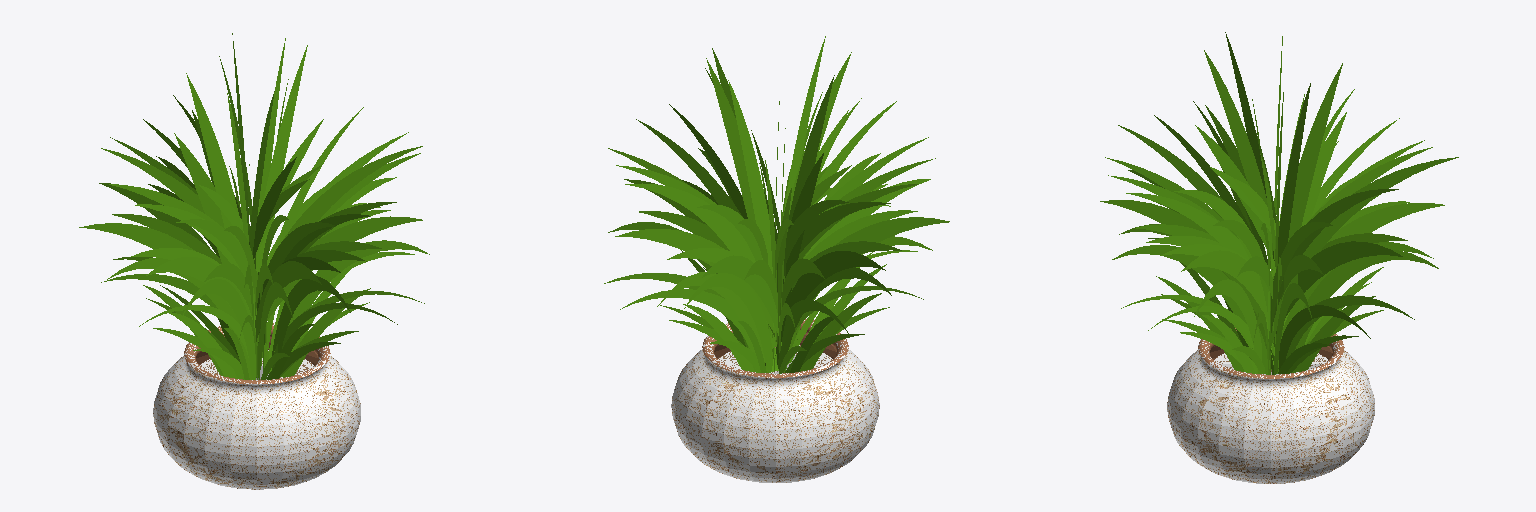
3 renders of one model, left to right at view 1: azimuth 30°, elevation 25°; view 2: azimuth 150°, elevation 25°; view 3: azimuth 270°, elevation 25°, orthographic.
Visible parts, largest first — view 1: Plant, Plant_ID13; view 2: Plant, Plant_ID13; view 3: Plant, Plant_ID13.
Part boxes in pixels (x1,y1,x2,y2): Plant: (79,33,429,489); Plant_ID13: (153,356,360,489); Plant: (604,36,949,482); Plant_ID13: (672,350,879,482); Plant: (1100,32,1458,483); Plant_ID13: (1167,350,1374,483).
Size of the model in its own units: 1.53 by 1.97 by 1.62.
7 materials, 1 textured.